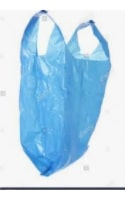kantong: (19, 9, 112, 177)
